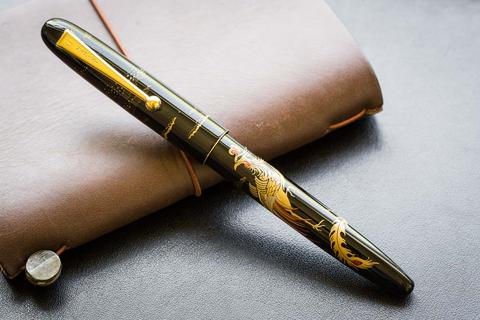Nonrec_Other: (34, 11, 426, 299)
